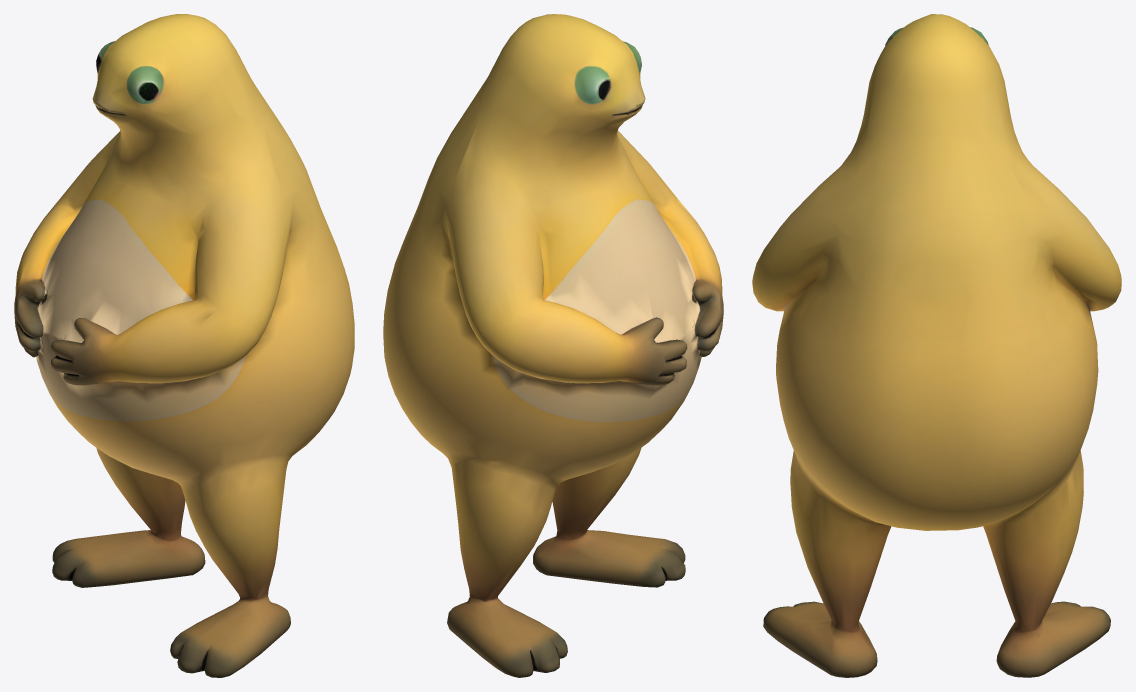
The picture shows the model from 3 angles, left to right: view 1: azimuth 30°, elevation 25°; view 2: azimuth 150°, elevation 25°; view 3: azimuth 270°, elevation 25°; orthographic projection. The views are drawn at different scales.
Visible parts, largest first — view 1: tripo_node_ad13a518; view 2: tripo_node_ad13a518; view 3: tripo_node_ad13a518.
Boxes of the visible parts, <box> form: tripo_node_ad13a518: <box>14,14,354,677</box>; tripo_node_ad13a518: <box>383,14,723,677</box>; tripo_node_ad13a518: <box>752,14,1121,677</box>.
Bounding box in the file's own units: 0.5187 × 1 × 0.5397.
1 material, 1 textured.
